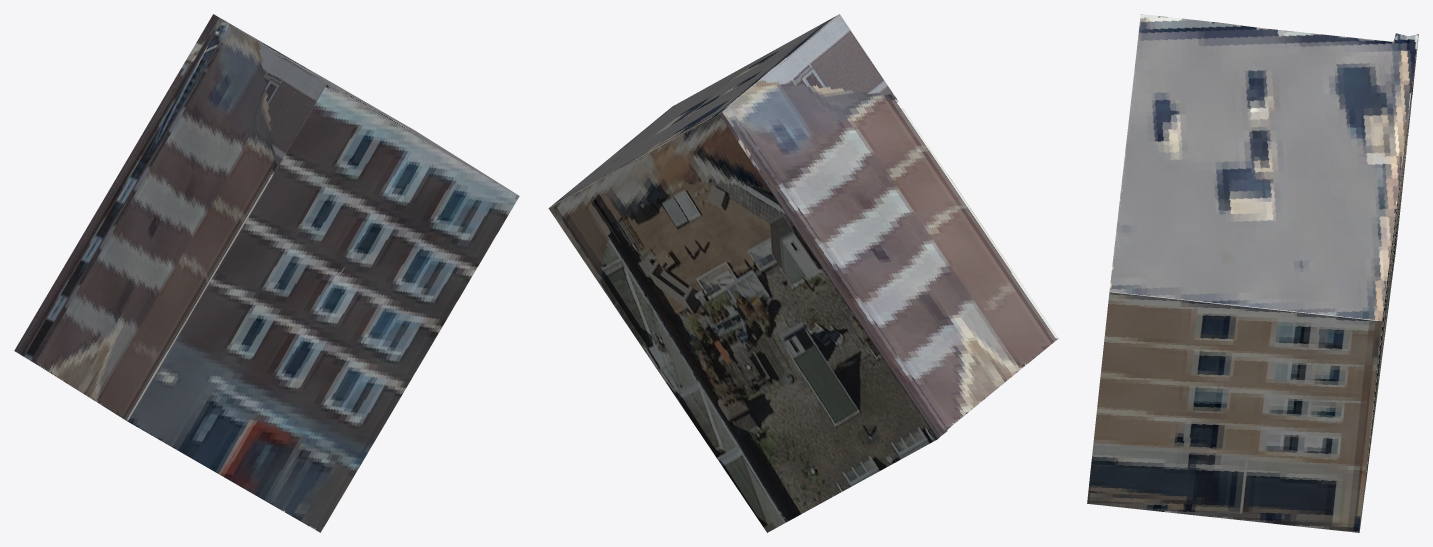
3 views of the same model, side by side, from view 1: azimuth 30°, elevation 25°; view 2: azimuth 150°, elevation 25°; view 3: azimuth 270°, elevation 25° (orthographic). The views are drawn at different scales.
Parts seen in each view (by area): view 1: BAG_0599100000656929 (×4); view 2: BAG_0599100000656929 (×3); view 3: BAG_0599100000656929 (×2).
Boxes of the visible parts, x1=… form: BAG_0599100000656929 (×4): x1=14, y1=14, x2=519, y2=532; BAG_0599100000656929 (×3): x1=548, y1=14, x2=1058, y2=532; BAG_0599100000656929 (×2): x1=1087, y1=14, x2=1418, y2=532.
Bounding box in the file's own units: 19.37 × 20.72 × 11.75.
Materials: 1 (1 with a texture image).
